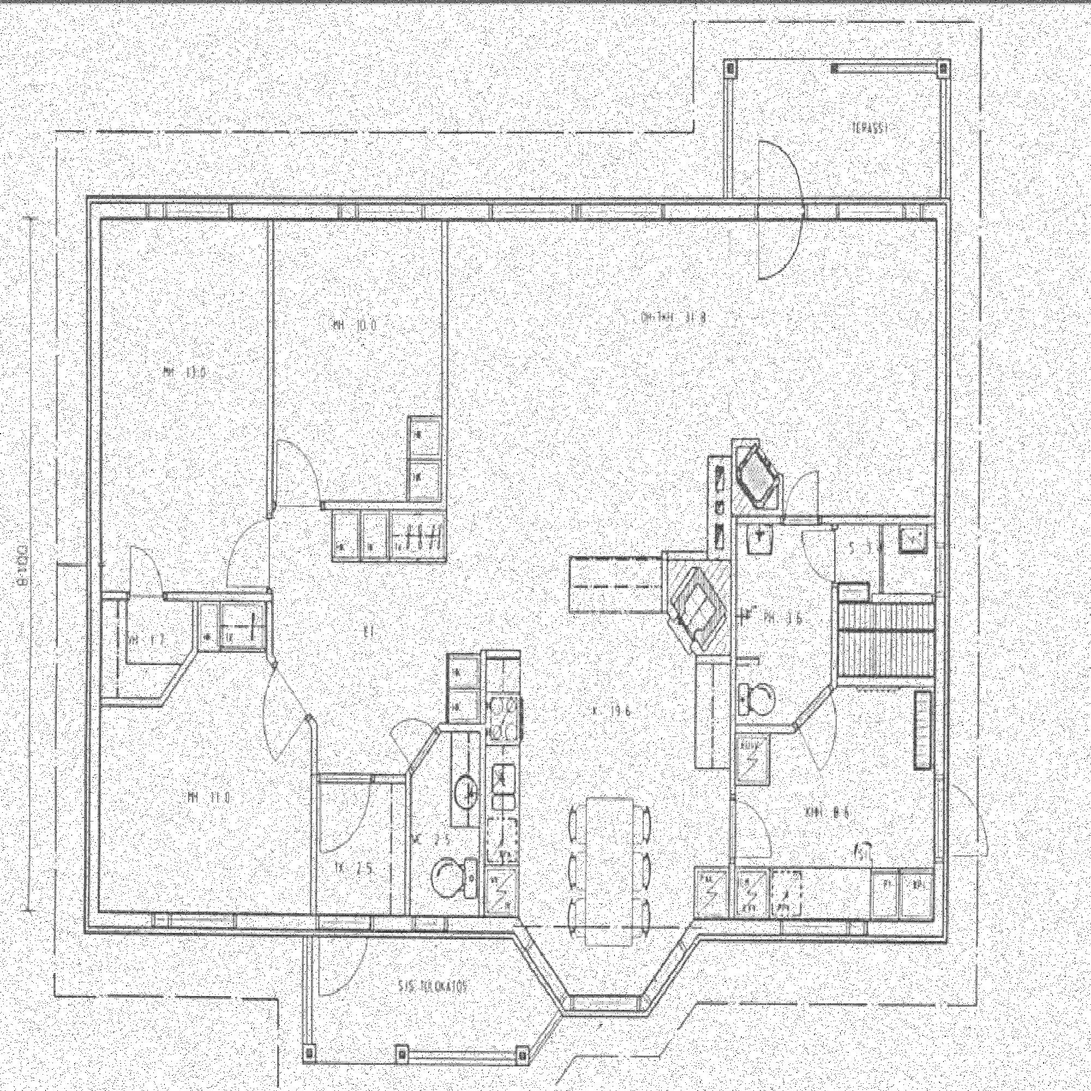wall: (84, 197, 950, 220), (84, 196, 101, 944), (934, 197, 950, 943), (85, 920, 519, 944), (637, 920, 704, 1018), (507, 919, 572, 1018), (693, 920, 950, 944), (265, 650, 317, 731), (265, 220, 272, 656), (790, 676, 838, 733), (706, 455, 730, 561), (157, 645, 198, 705), (723, 220, 730, 561), (561, 994, 649, 1018), (729, 515, 734, 919), (405, 725, 443, 778), (440, 220, 446, 510), (729, 515, 933, 523), (479, 650, 485, 920), (272, 501, 446, 510), (100, 590, 265, 599), (310, 726, 316, 920), (832, 523, 838, 677), (835, 677, 934, 686), (405, 772, 411, 920), (316, 774, 406, 783), (100, 696, 162, 705), (735, 724, 794, 733), (661, 551, 706, 561), (660, 550, 667, 610), (479, 650, 520, 659), (439, 725, 479, 734), (695, 653, 729, 663), (192, 600, 198, 651), (735, 657, 759, 666)
